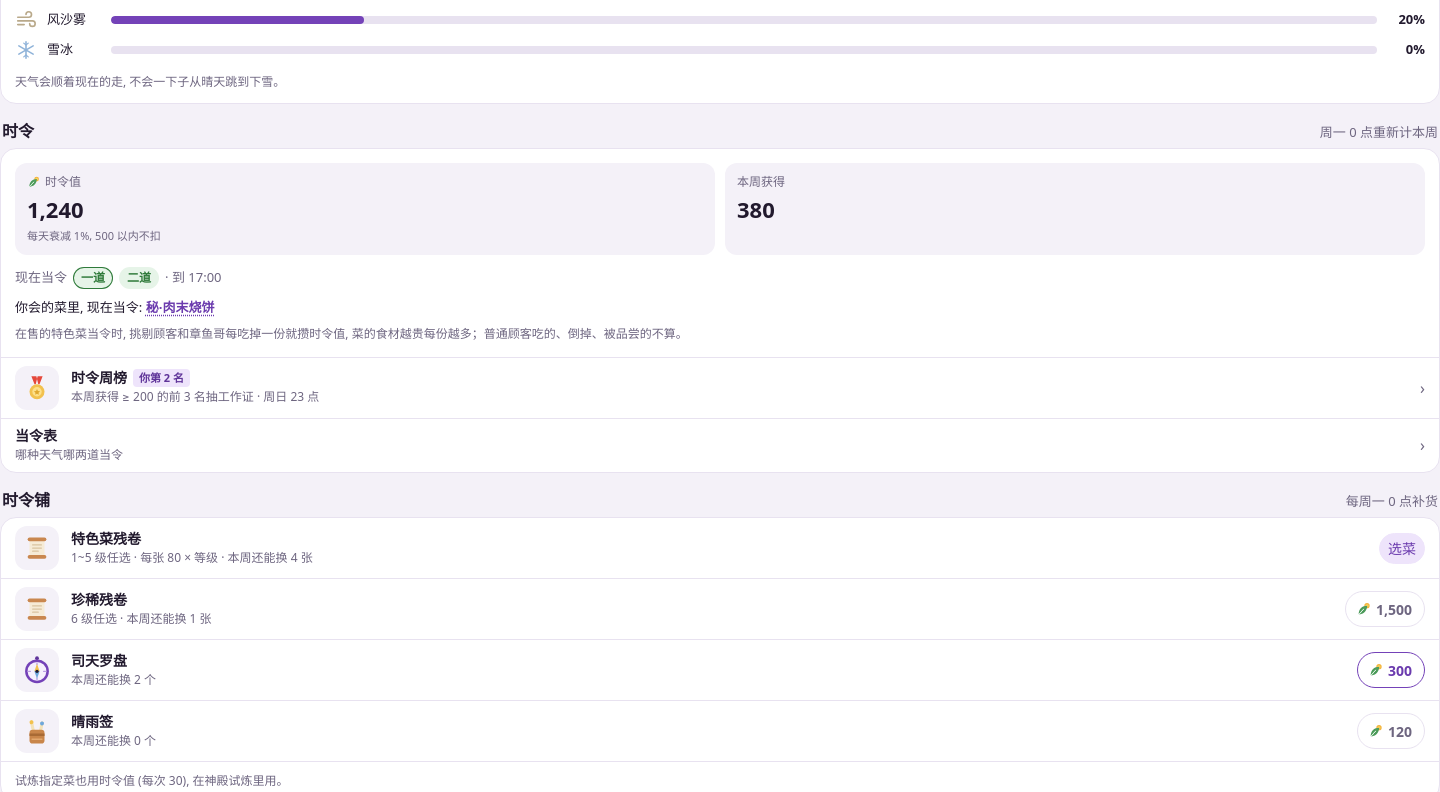
Test: 时令（天气改版 PR②，设计图 Sl-A~Sl-D） › 时令周榜（PR③，设计图 Jc-A、Jc-B）：一行写名次；点开列排名、门槛线、工作证和抽不到的原因
(page scrolled)
Expected: the text with test id "shiling-week-rank" reads "你第 2 名", 139,370 -> 184,385
Click the button with test id "shiling-week-open". click: (37, 388)
box: 1,357 -> 1439,418
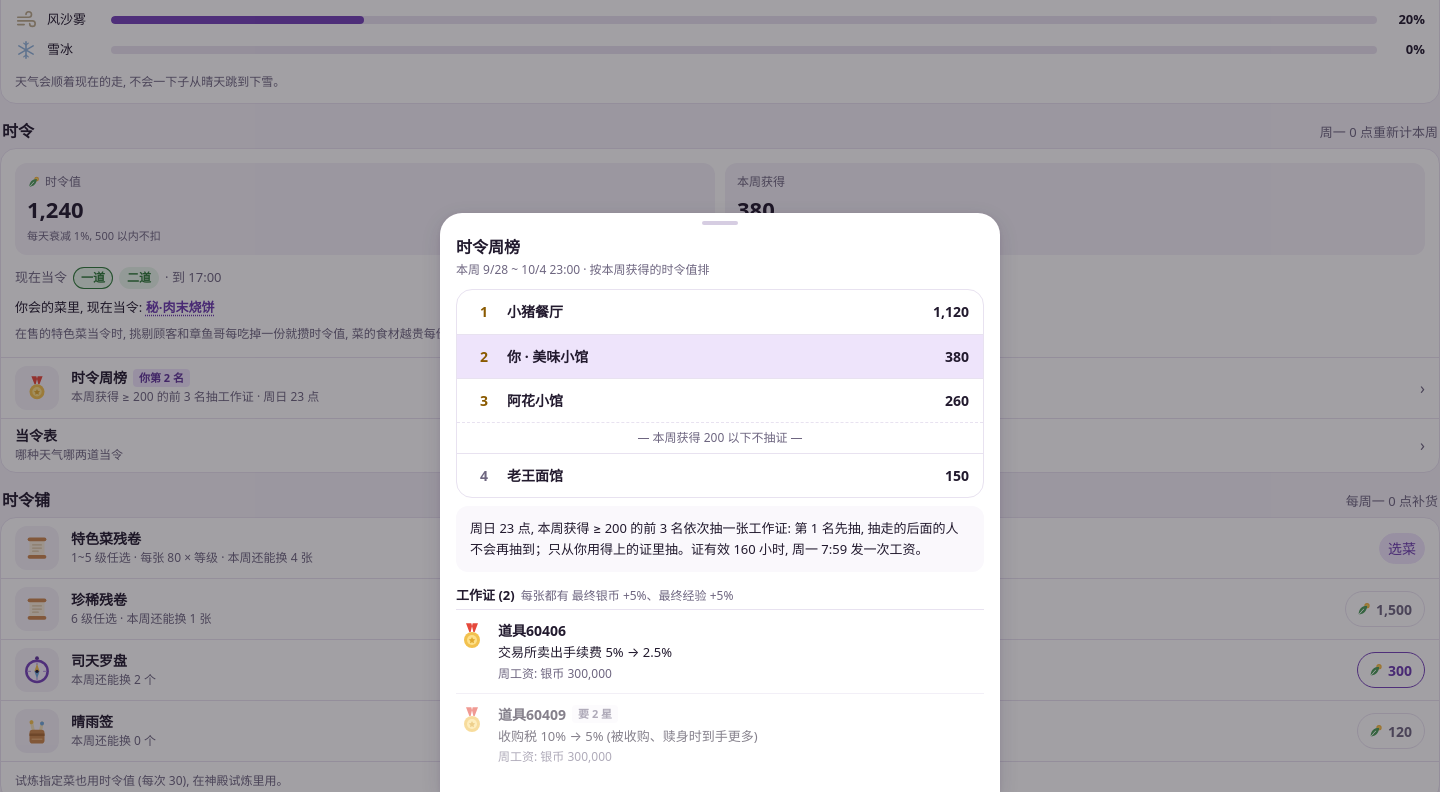
Expected: the text "本周 9/28 ~ 10/4 23:00 · 按本周获得的时令值排" is shown, 456,261 -> 710,278
Expected: the element with test id "week-row-1" shows "你 · 美味小馆", 507,347 -> 588,366
Expected: the elements with test id "week-cut" read "— 本周获得 200 以下不抽证 —", in this order, 457,422 -> 983,453
